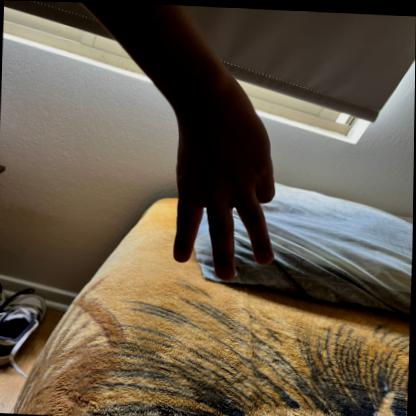M: (156, 78, 284, 282)
